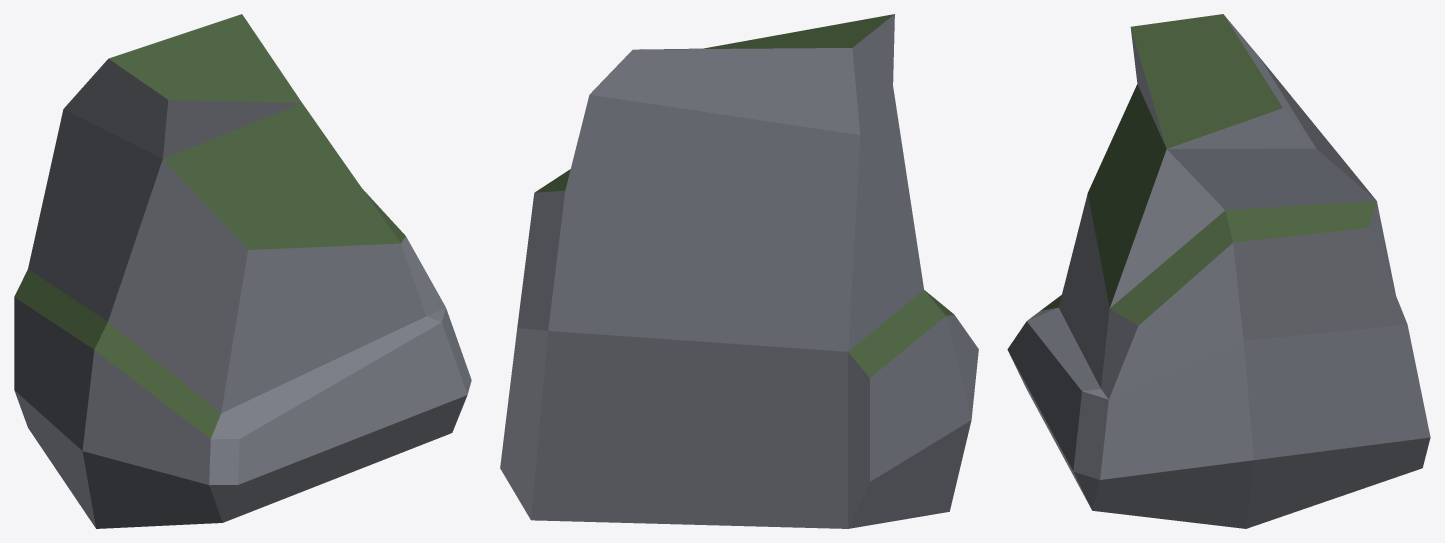
Rendered from Rock_Moss_2.gltf.
3 renders of one model, left to right at view 1: azimuth 30°, elevation 25°; view 2: azimuth 150°, elevation 25°; view 3: azimuth 270°, elevation 25°, orthographic. The views are drawn at different scales.
Visible parts, largest first — view 1: Rock_Moss_2; view 2: Rock_Moss_2; view 3: Rock_Moss_2.
Boxes of the visible parts, x1,y1,x2,y2 form: Rock_Moss_2: [14, 14, 471, 528]; Rock_Moss_2: [500, 14, 978, 528]; Rock_Moss_2: [1007, 14, 1430, 528].
Bounding box in the file's own units: 0.6125 × 0.6918 × 0.6504.
